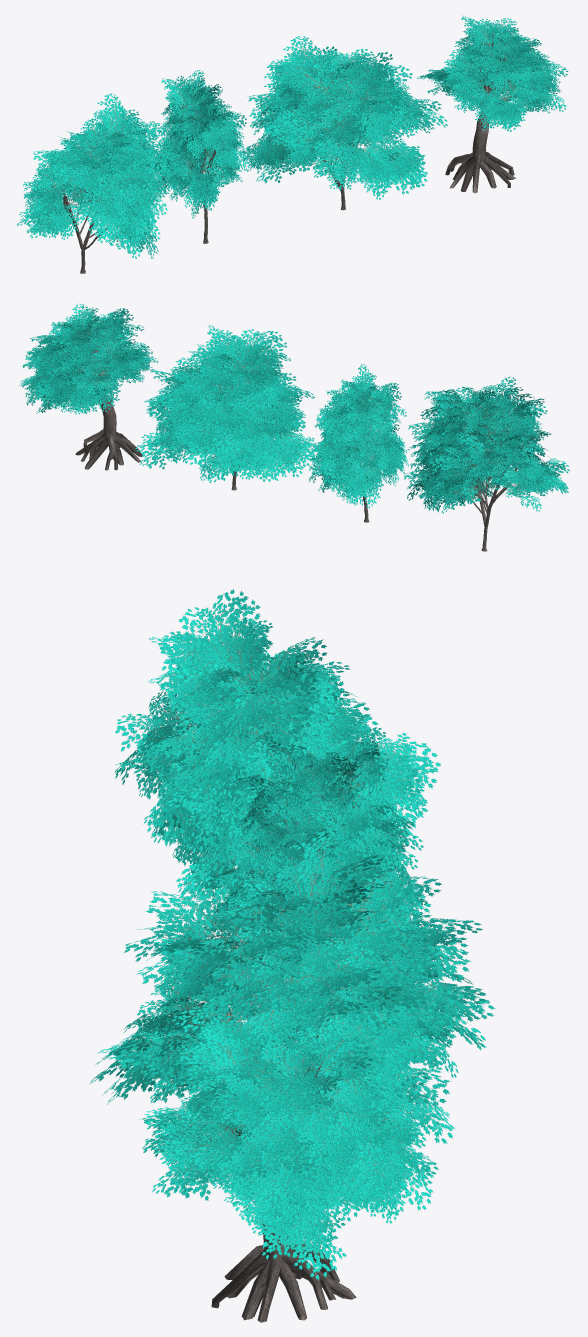
File: TreesLODGROUP.fbx
The picture shows the model from 3 angles, top to bottom: view 1: azimuth 30°, elevation 25°; view 2: azimuth 150°, elevation 25°; view 3: azimuth 270°, elevation 25°; orthographic projection. The views are drawn at different scales.
Parts seen in each view (by area): view 1: tree3_LOD0, tree1_LOD0, tree4_LOD0, tree2_LOD0; view 2: tree3_LOD0, tree1_LOD0, tree4_LOD0, tree2_LOD0; view 3: tree3_LOD0, tree4_LOD0, tree1_LOD0, tree2_LOD0.
Boxes of the visible parts, x1,y1,x2,y2 form: tree3_LOD0: (239,36,447,210); tree1_LOD0: (17,93,170,273); tree4_LOD0: (417,15,568,193); tree2_LOD0: (149,70,249,243); tree3_LOD0: (135,325,317,490); tree1_LOD0: (404,376,569,551); tree4_LOD0: (19,303,158,470); tree2_LOD0: (309,364,408,522); tree3_LOD0: (90,828,495,1143); tree4_LOD0: (138,1020,438,1322); tree1_LOD0: (115,589,440,932); tree2_LOD0: (208,727,427,943).
Size of what is drawn, in the model's own units: 59405 by 16909 by 20671.
Materials: 6 (5 with a texture image).
